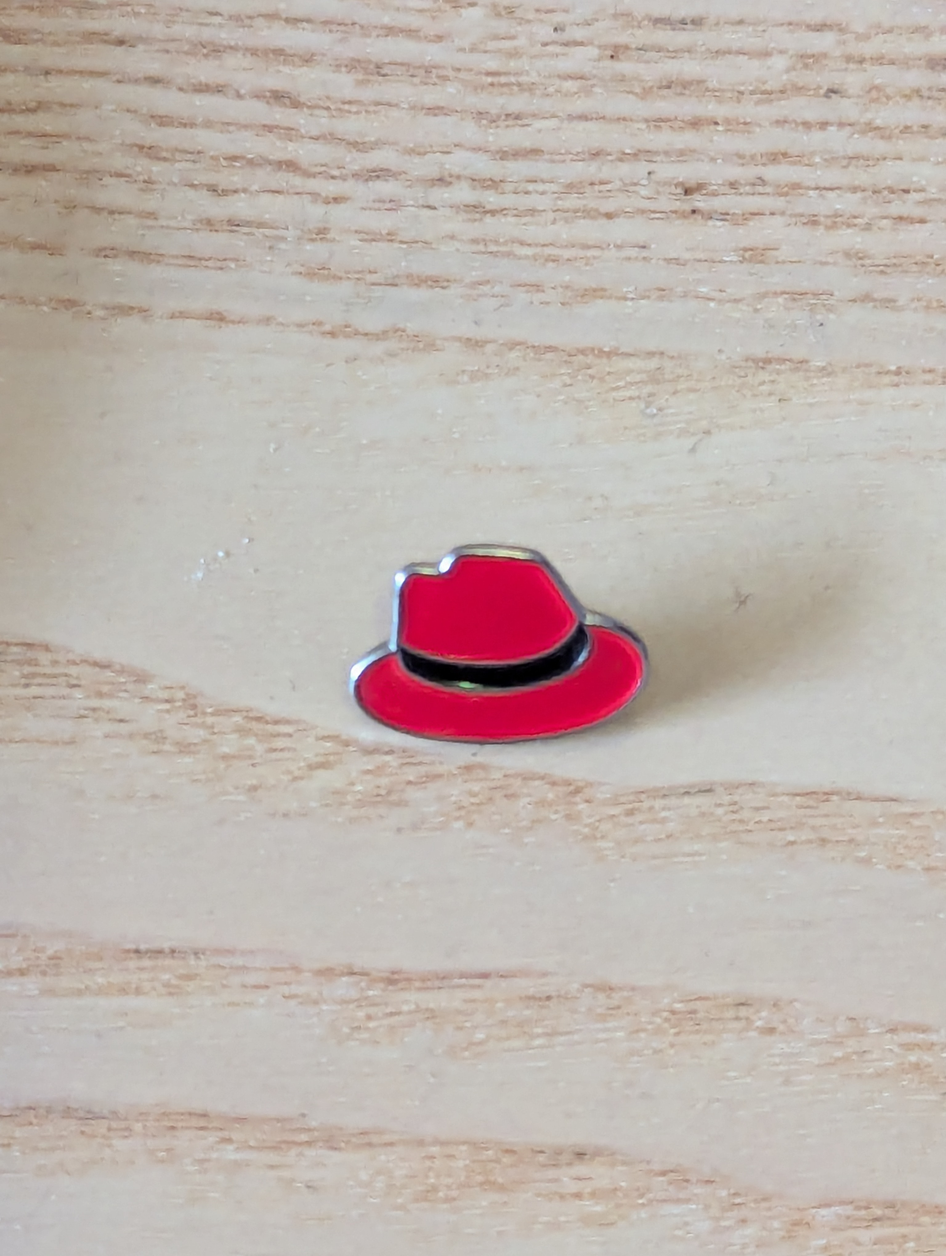Red-Hat: (330, 477, 750, 823)
